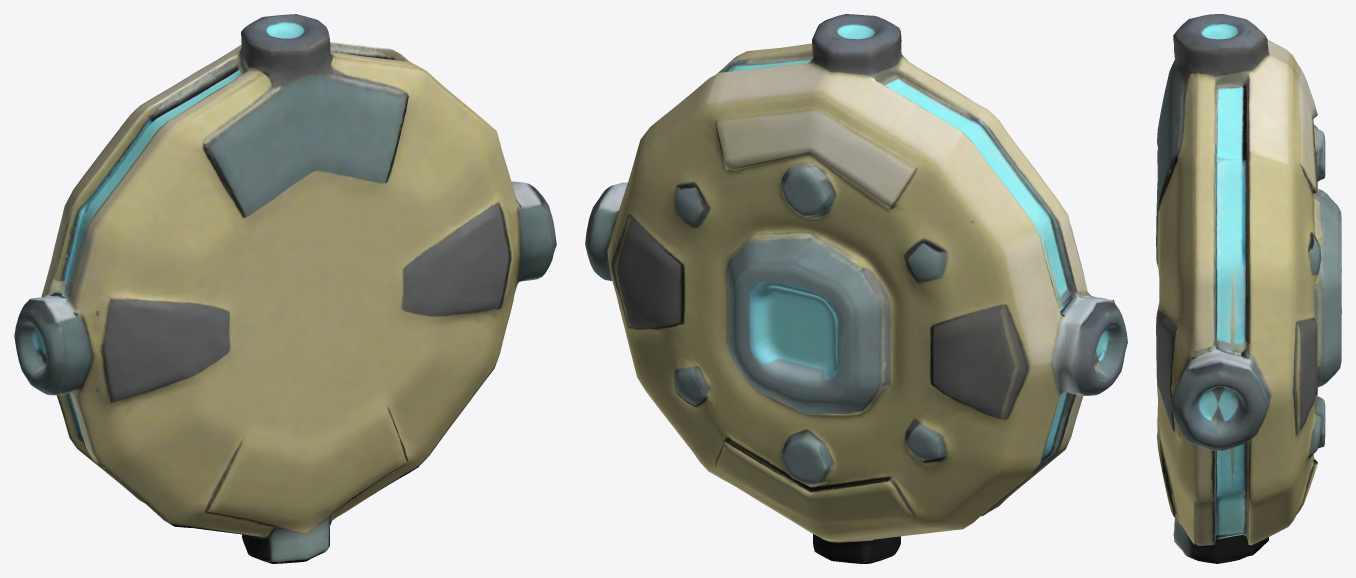
Rendered from shield.fbx.
3 renders of one model, left to right at view 1: azimuth 30°, elevation 25°; view 2: azimuth 150°, elevation 25°; view 3: azimuth 270°, elevation 25°, orthographic.
Visible parts, largest first — view 1: Mesh0; view 2: Mesh0; view 3: Mesh0.
Part boxes in pixels (bbox=[...]): Mesh0: bbox=[14, 14, 556, 563]; Mesh0: bbox=[585, 14, 1127, 563]; Mesh0: bbox=[1156, 14, 1341, 563].
Size of the model in its own units: 200 by 197 by 63.55.
Materials: 1 (1 with a texture image).
